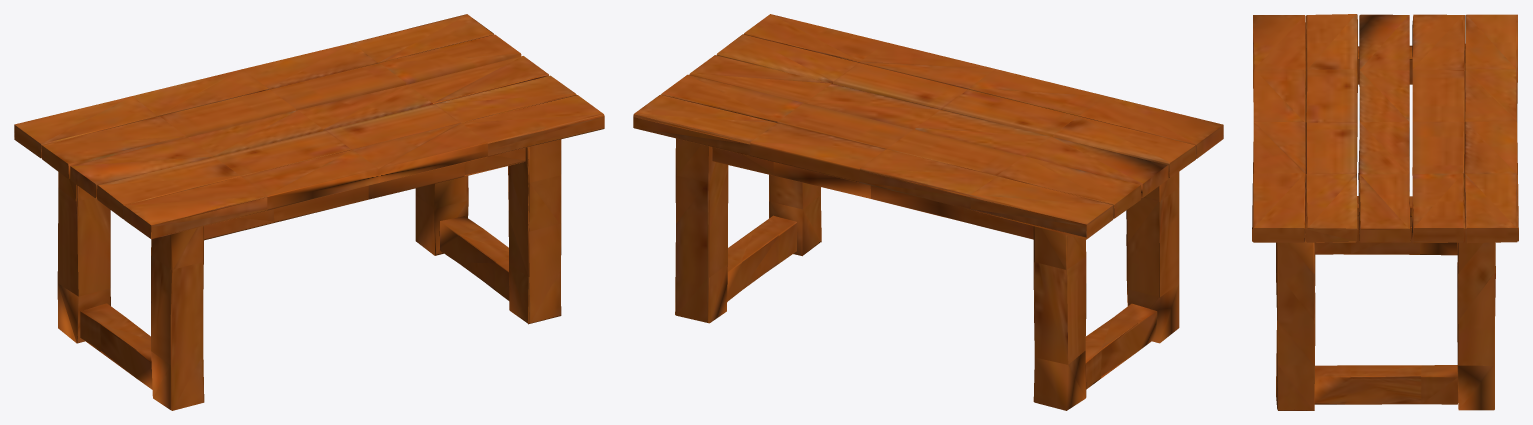
Rendered from table.lod1.glb.
3 renders of one model, left to right at view 1: azimuth 30°, elevation 25°; view 2: azimuth 150°, elevation 25°; view 3: azimuth 270°, elevation 25°, orthographic. The views are drawn at different scales.
Size of the model in its own units: 1.8 by 0.778 by 0.95.
Materials: 1 (1 with a texture image).
